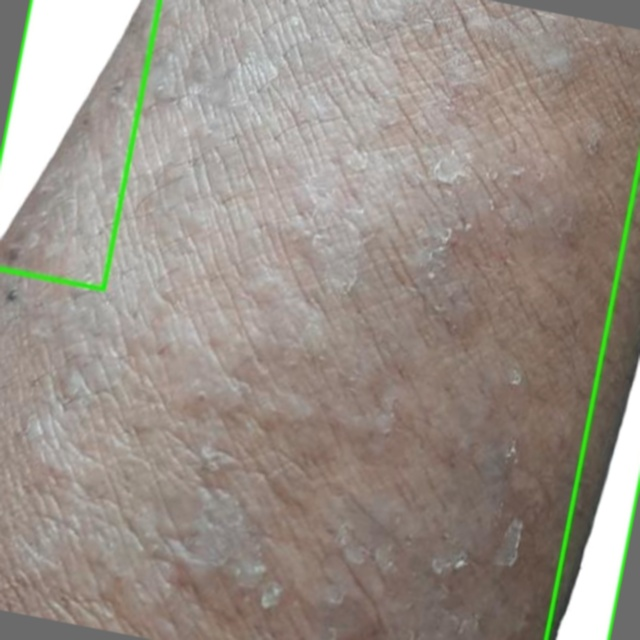Tinea Corporis: (0, 0, 159, 289)
